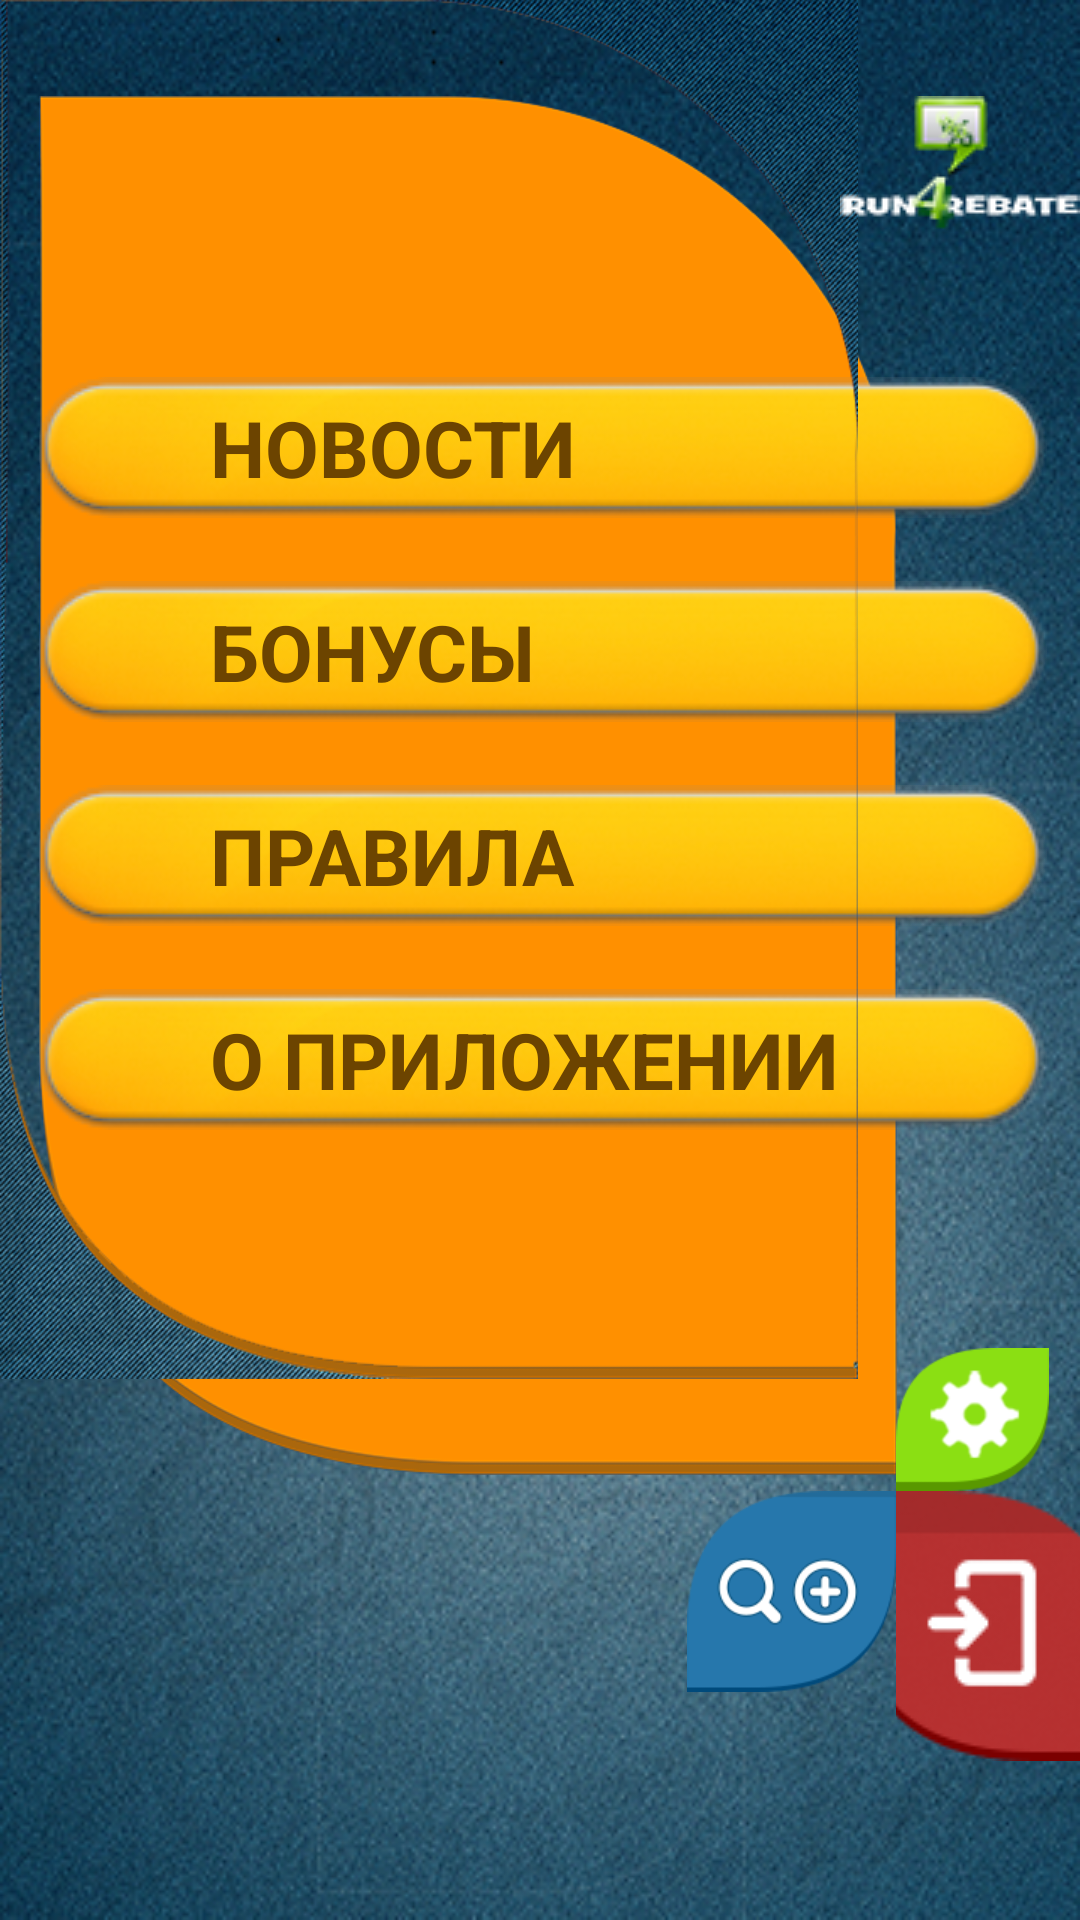

Named icons in this screenshot (1080x1920) and their centers, (x=x, y=y):
add search: (x=791, y=1591)
settings: (x=972, y=1419)
